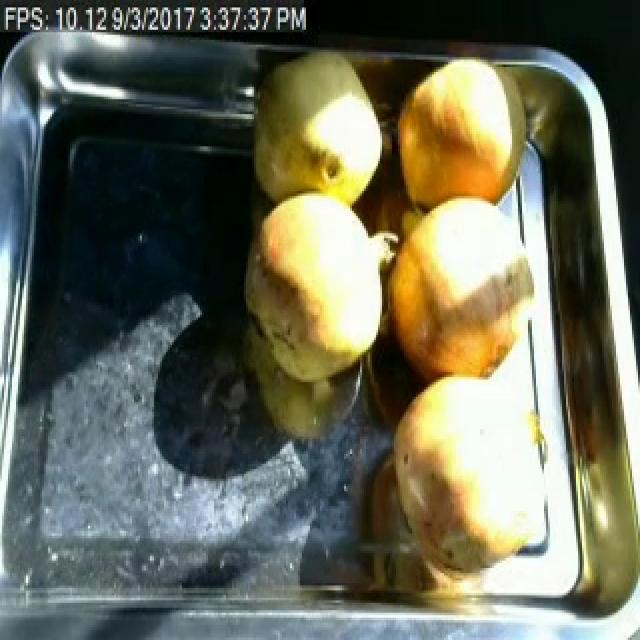fruit: (384, 360, 566, 590), (372, 176, 550, 392), (238, 181, 398, 399), (384, 52, 544, 221), (244, 45, 392, 211)
